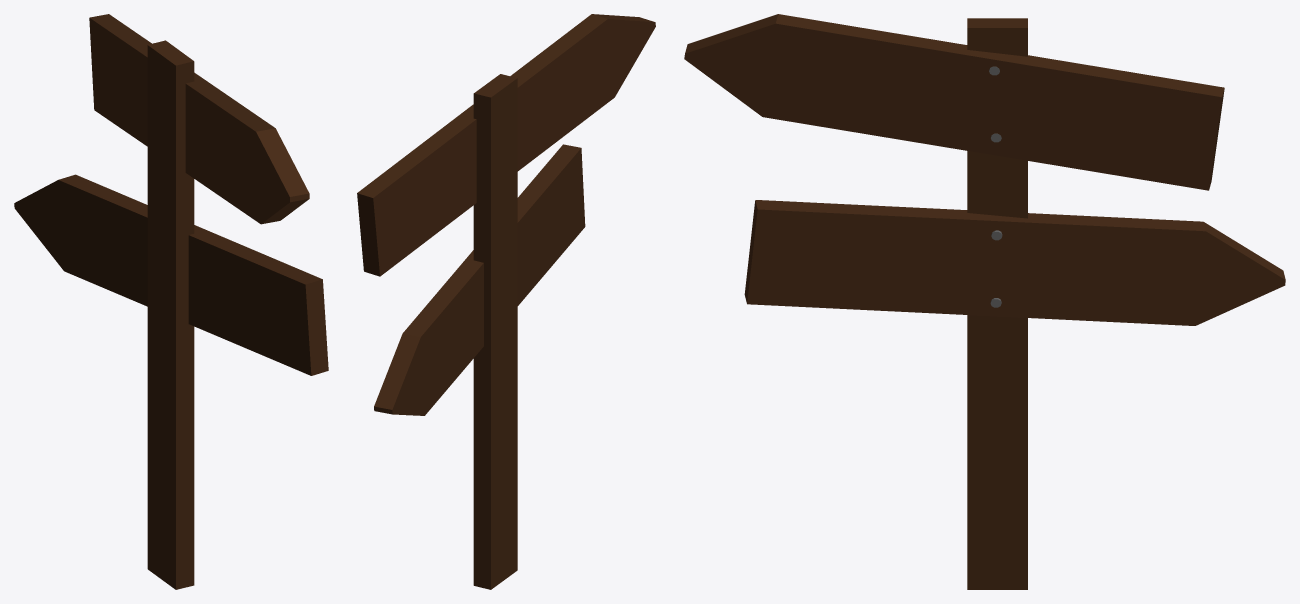
File: tablicaz2.obj
3 renders of one model, left to right at view 1: azimuth 30°, elevation 25°; view 2: azimuth 150°, elevation 25°; view 3: azimuth 270°, elevation 25°, orthographic. The views are drawn at different scales.
Parts seen in each view (by area): view 1: Cylinder.002; view 2: Cylinder.002; view 3: Cylinder.002.
Boxes of the visible parts, x1,y1,x2,y2 form: Cylinder.002: (14,14,328,589); Cylinder.002: (357,14,655,589); Cylinder.002: (684,14,1285,589).
Bounding box in the file's own units: 0.1886 × 1.38 × 1.34.
